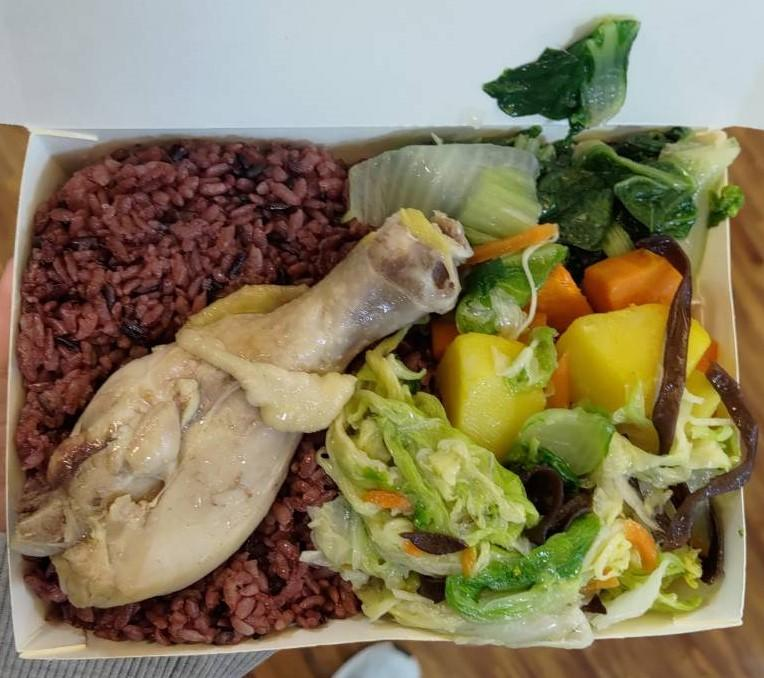big grilled chicken leg: (0, 97, 764, 678)
braised fish: (26, 142, 396, 635)
braised fish fillet: (330, 396, 729, 635), (359, 19, 740, 260), (430, 245, 716, 437)
braised pork: (40, 206, 463, 608)
